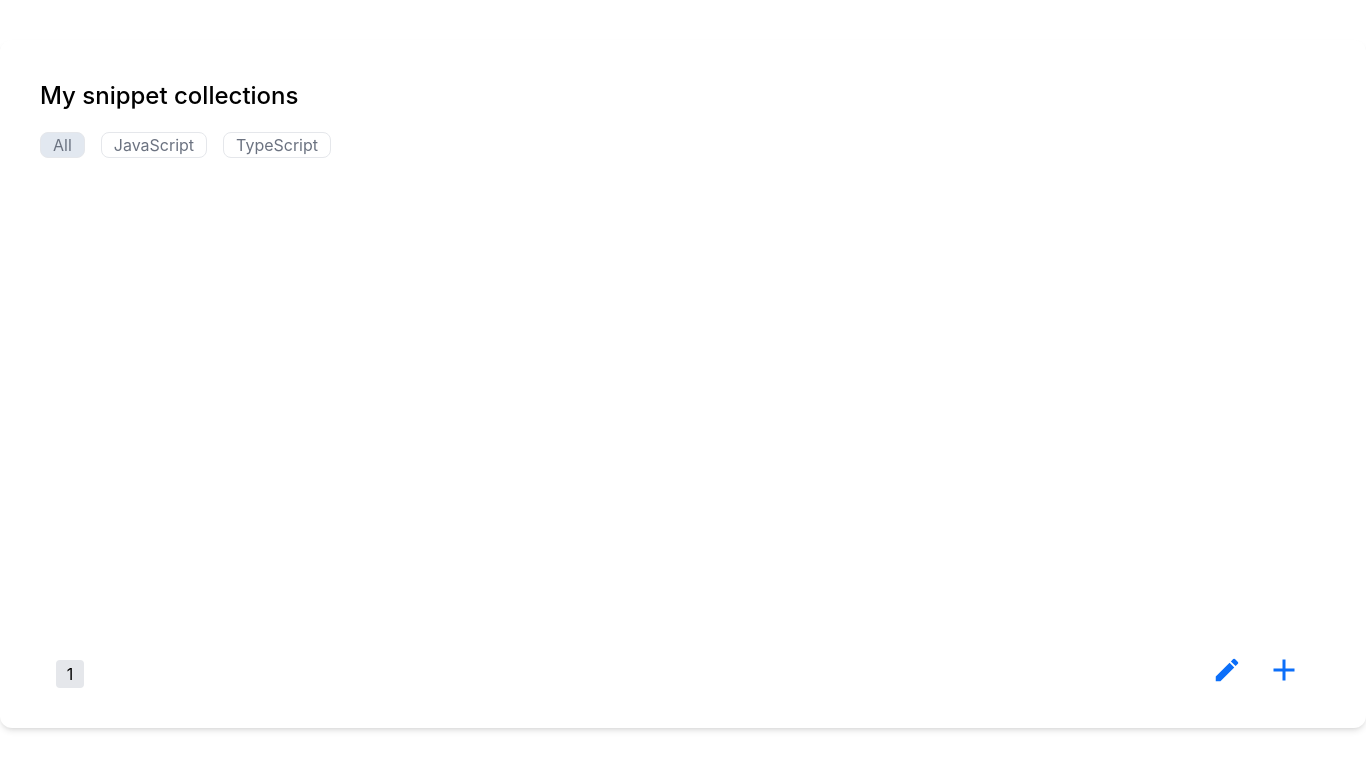
Scenario: Given a GenericCard component › When it's rendered and someone clicks the TypeScript button › Then it should change its state
This screenshot has width=1366, height=768.
Click the button "TypeScript" at (277, 145), box 236,133 -> 318,157
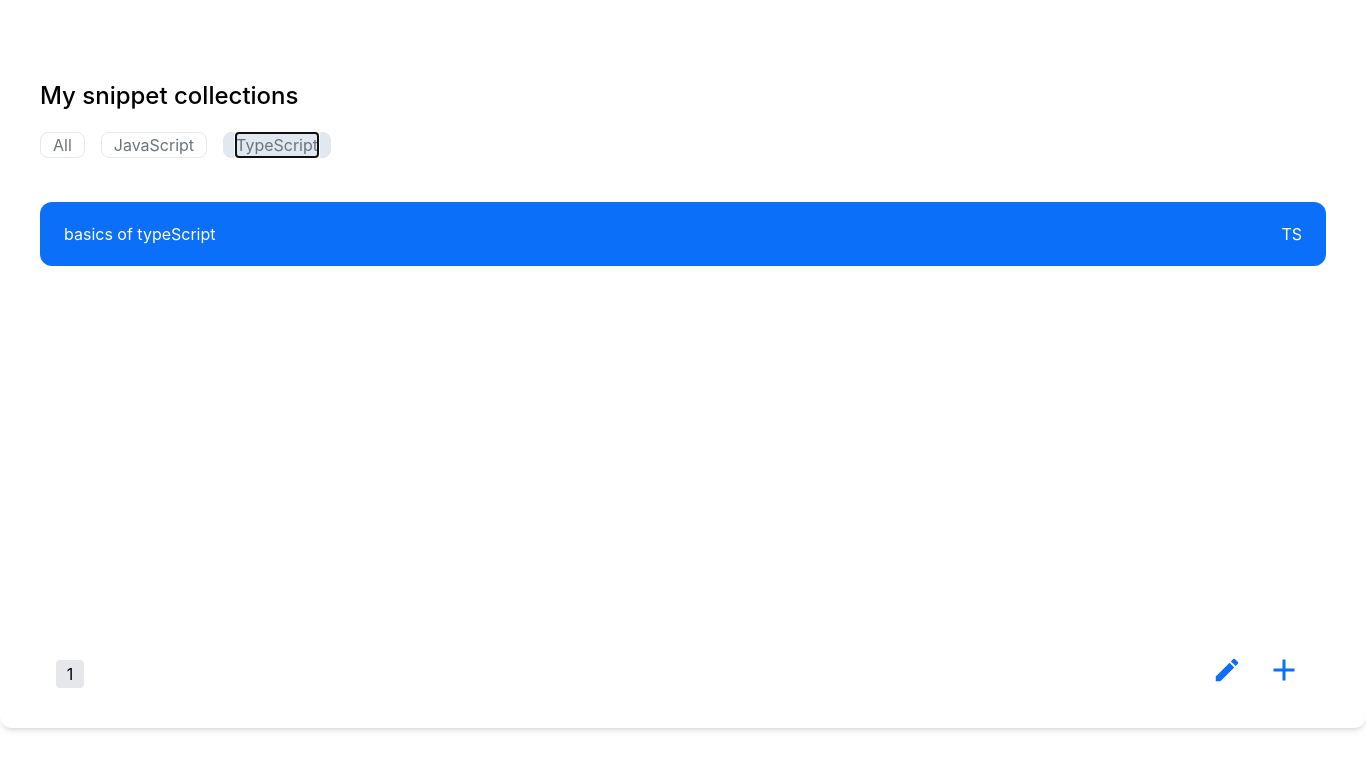
Check: the link "basics of typeScript TS" is shown, box 40,202 -> 1326,266
